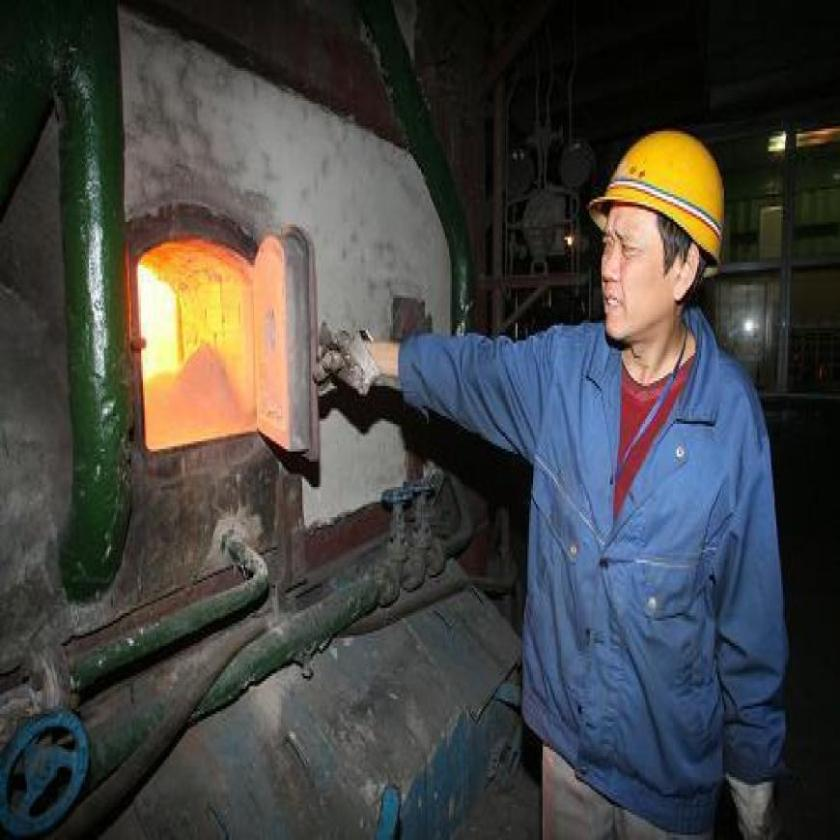Con_casco: (583, 125, 730, 359)
